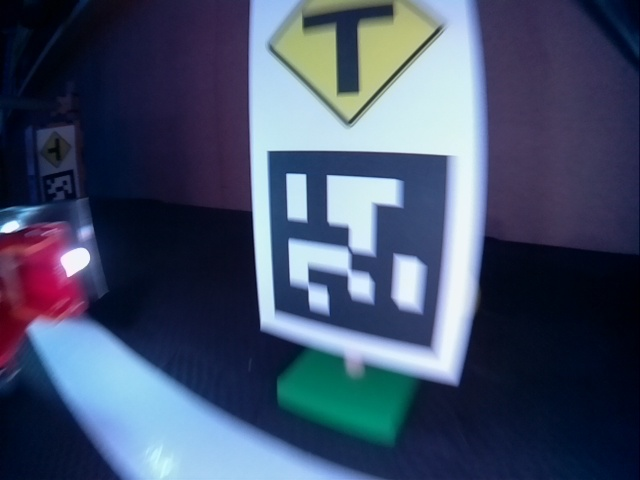Duckiebot: (0, 202, 104, 386)
Intersection sign: (268, 3, 445, 131), (39, 130, 73, 165)
QR code: (267, 148, 449, 352), (41, 171, 78, 200)
